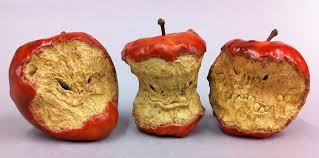damaged_apple: (11, 31, 116, 148), (211, 39, 309, 147), (119, 30, 205, 138)
